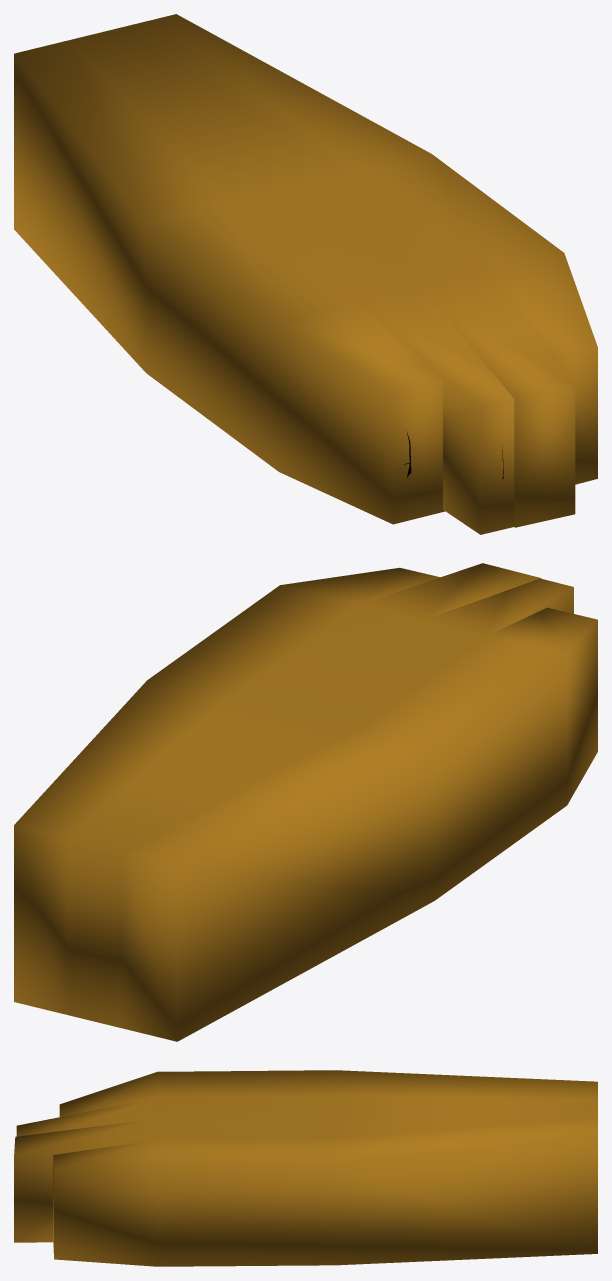
File: cat_foot.glb
3 views of the same model, one above another, from view 1: azimuth 30°, elevation 25°; view 2: azimuth 150°, elevation 25°; view 3: azimuth 270°, elevation 25° (orthographic). The views are drawn at different scales.
Parts seen in each view (by area): view 1: Foot; view 2: Foot; view 3: Foot.
Part boxes in pixels (x1=…): Foot: x1=14, y1=14, x2=597, y2=534; Foot: x1=14, y1=563, x2=597, y2=1041; Foot: x1=14, y1=1070, x2=597, y2=1266.
Size of the model in its own units: 0.146 by 0.0857 by 0.3824.
Materials: 1 (1 with a texture image).
